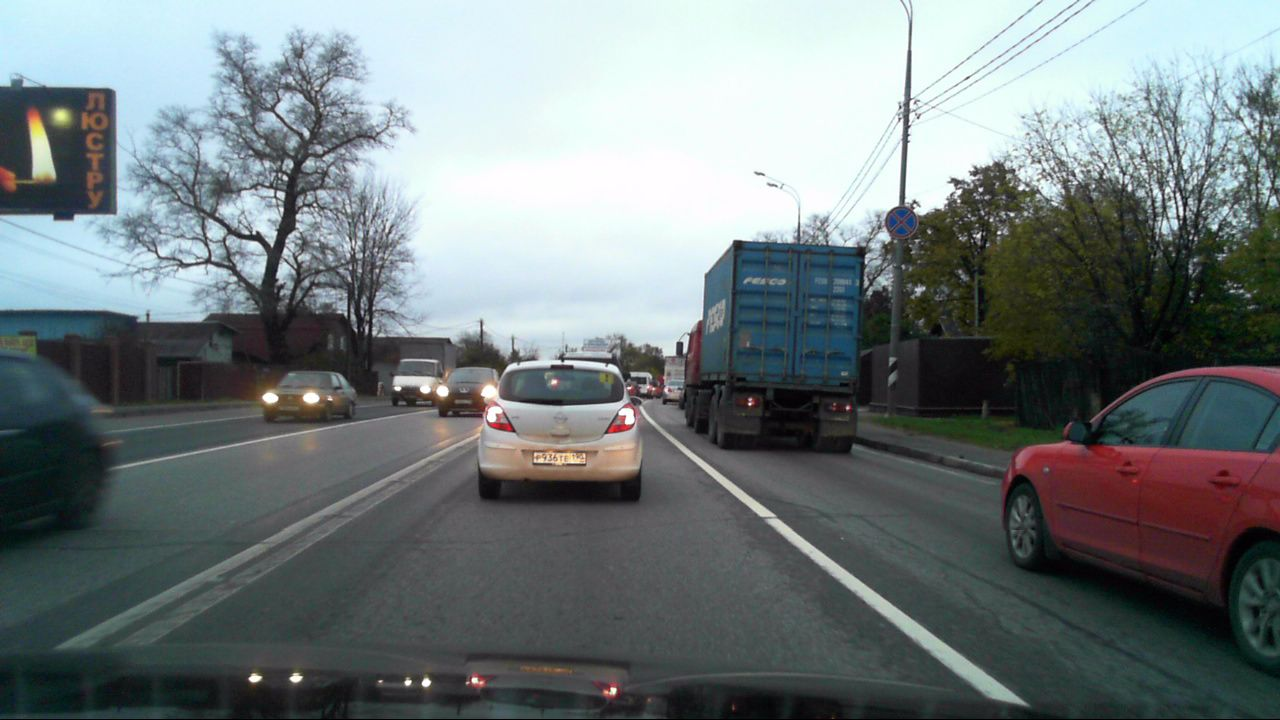No Parking: (885, 206, 917, 238)
